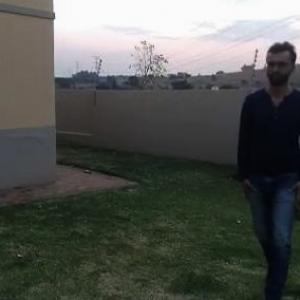follow: (224, 35, 298, 299)
